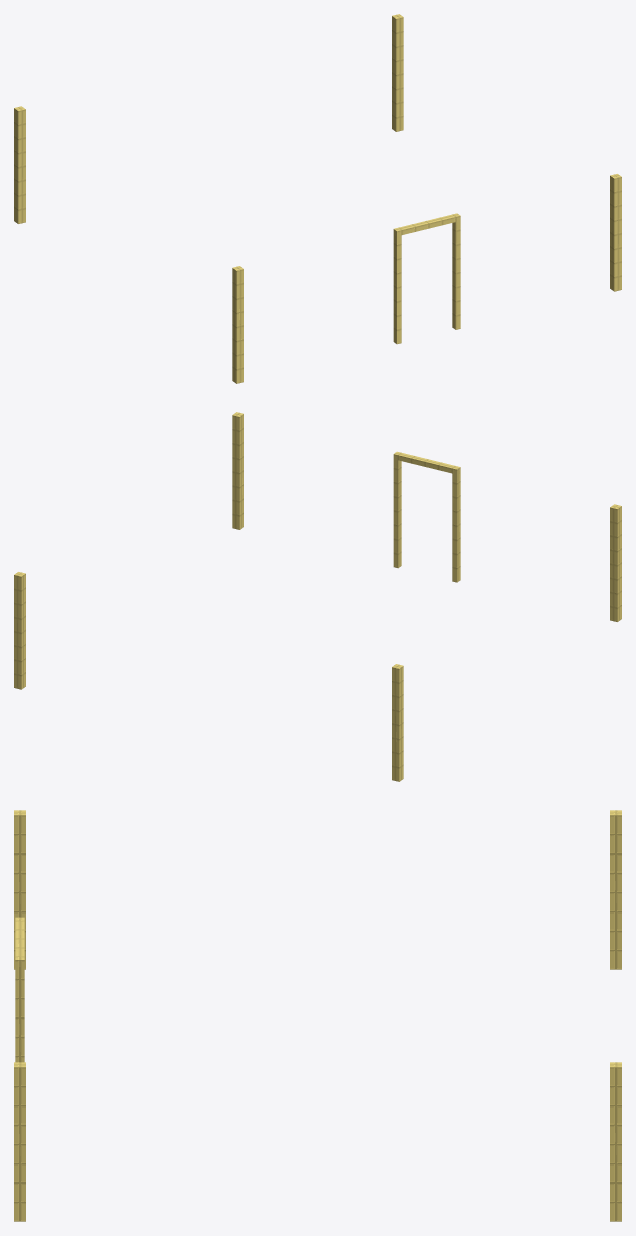
File: accent-1.glb
3 renders of one model, top to bottom at view 1: azimuth 30°, elevation 25°; view 2: azimuth 150°, elevation 25°; view 3: azimuth 270°, elevation 25°, orthographic. The views are drawn at different scales.
Visible parts, largest first — view 1: accent-1; view 2: accent-1; view 3: accent-1.
Part boxes in pixels (x1,y1,x2,y2): accent-1: (14, 14, 621, 383); accent-1: (14, 412, 621, 781); accent-1: (14, 810, 621, 1221).
Size of the model in its own units: 14.28 by 4 by 14.28.
Materials: 1 (1 with a texture image).
